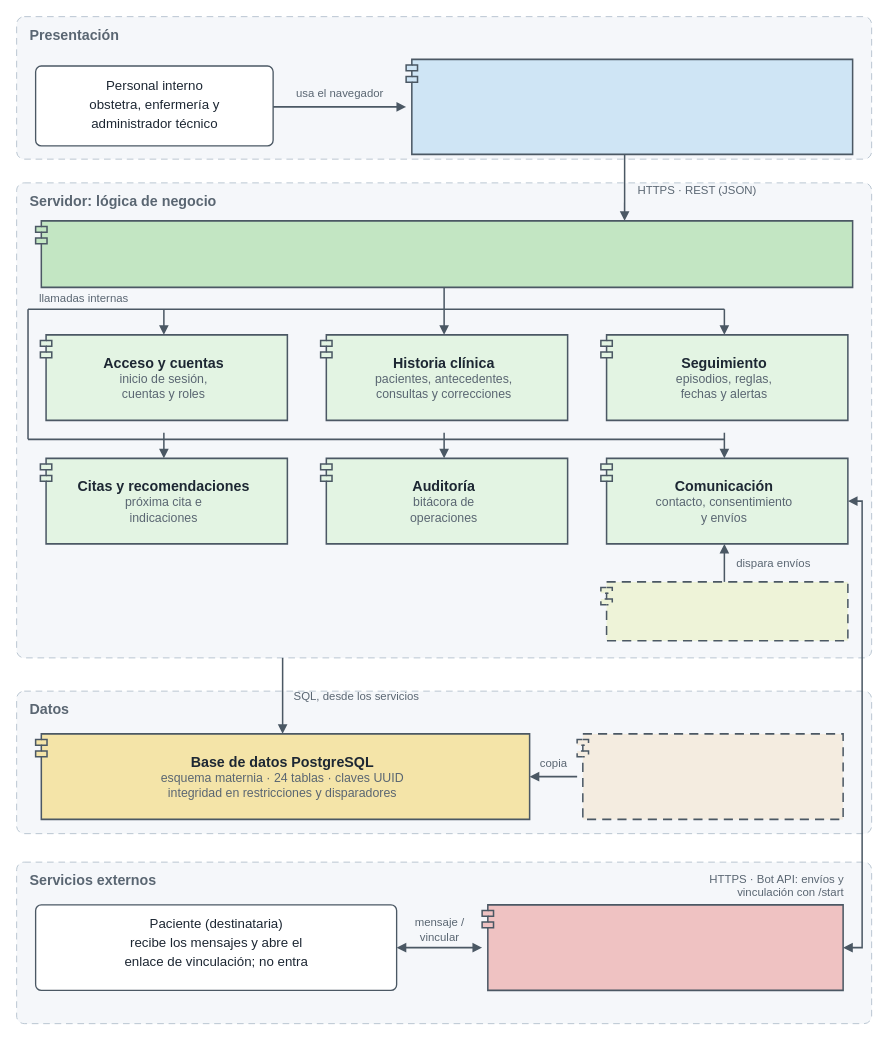
The diagram is 888 pixels wide and 1040 high, and some of its shapes have lost their labels. Each missing label, with the centre of its shape:
"API de bots de Telegram servicio de Telegram, fuera del sistema" belongs at point 662,947.
"API REST única puerta de entrada · valida el rol de la cuenta en cada operación" belongs at point 443,254.
"Aplicación web pantallas del personal interno sin reglas críticas de negocio" belongs at point 629,106.
"Planificador de envíos proceso programado" belongs at point 724,611.
"Respaldo y restauración lo ejecuta el administrador técnico" belongs at point 709,776.
